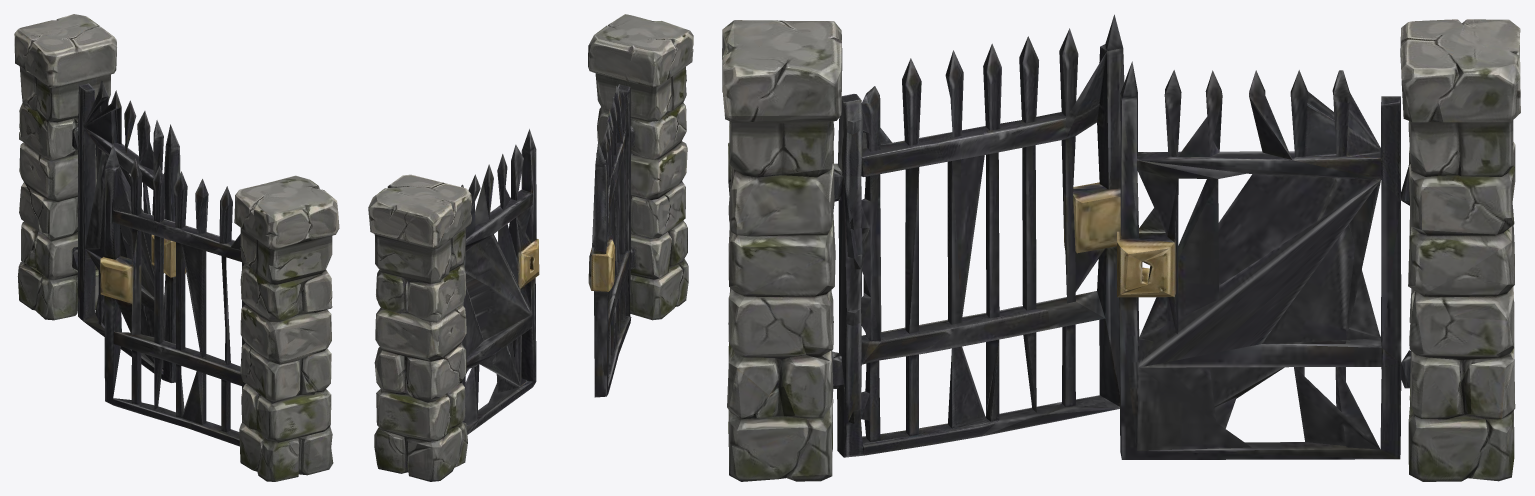
The model's file is vgate_open_3d.glb.
3 renders of one model, left to right at view 1: azimuth 30°, elevation 25°; view 2: azimuth 150°, elevation 25°; view 3: azimuth 270°, elevation 25°, orthographic. The views are drawn at different scales.
Parts seen in each view (by area): view 1: Mesh_0; view 2: Mesh_0; view 3: Mesh_0.
Part boxes in pixels (left/top/right/bottom): Mesh_0: left=14, top=14, right=339, bottom=481; Mesh_0: left=368, top=14, right=693, bottom=481; Mesh_0: left=722, top=14, right=1520, bottom=481.
Size of the model in its own units: 0.7599 by 1.73 by 3.
Materials: 1 (1 with a texture image).
